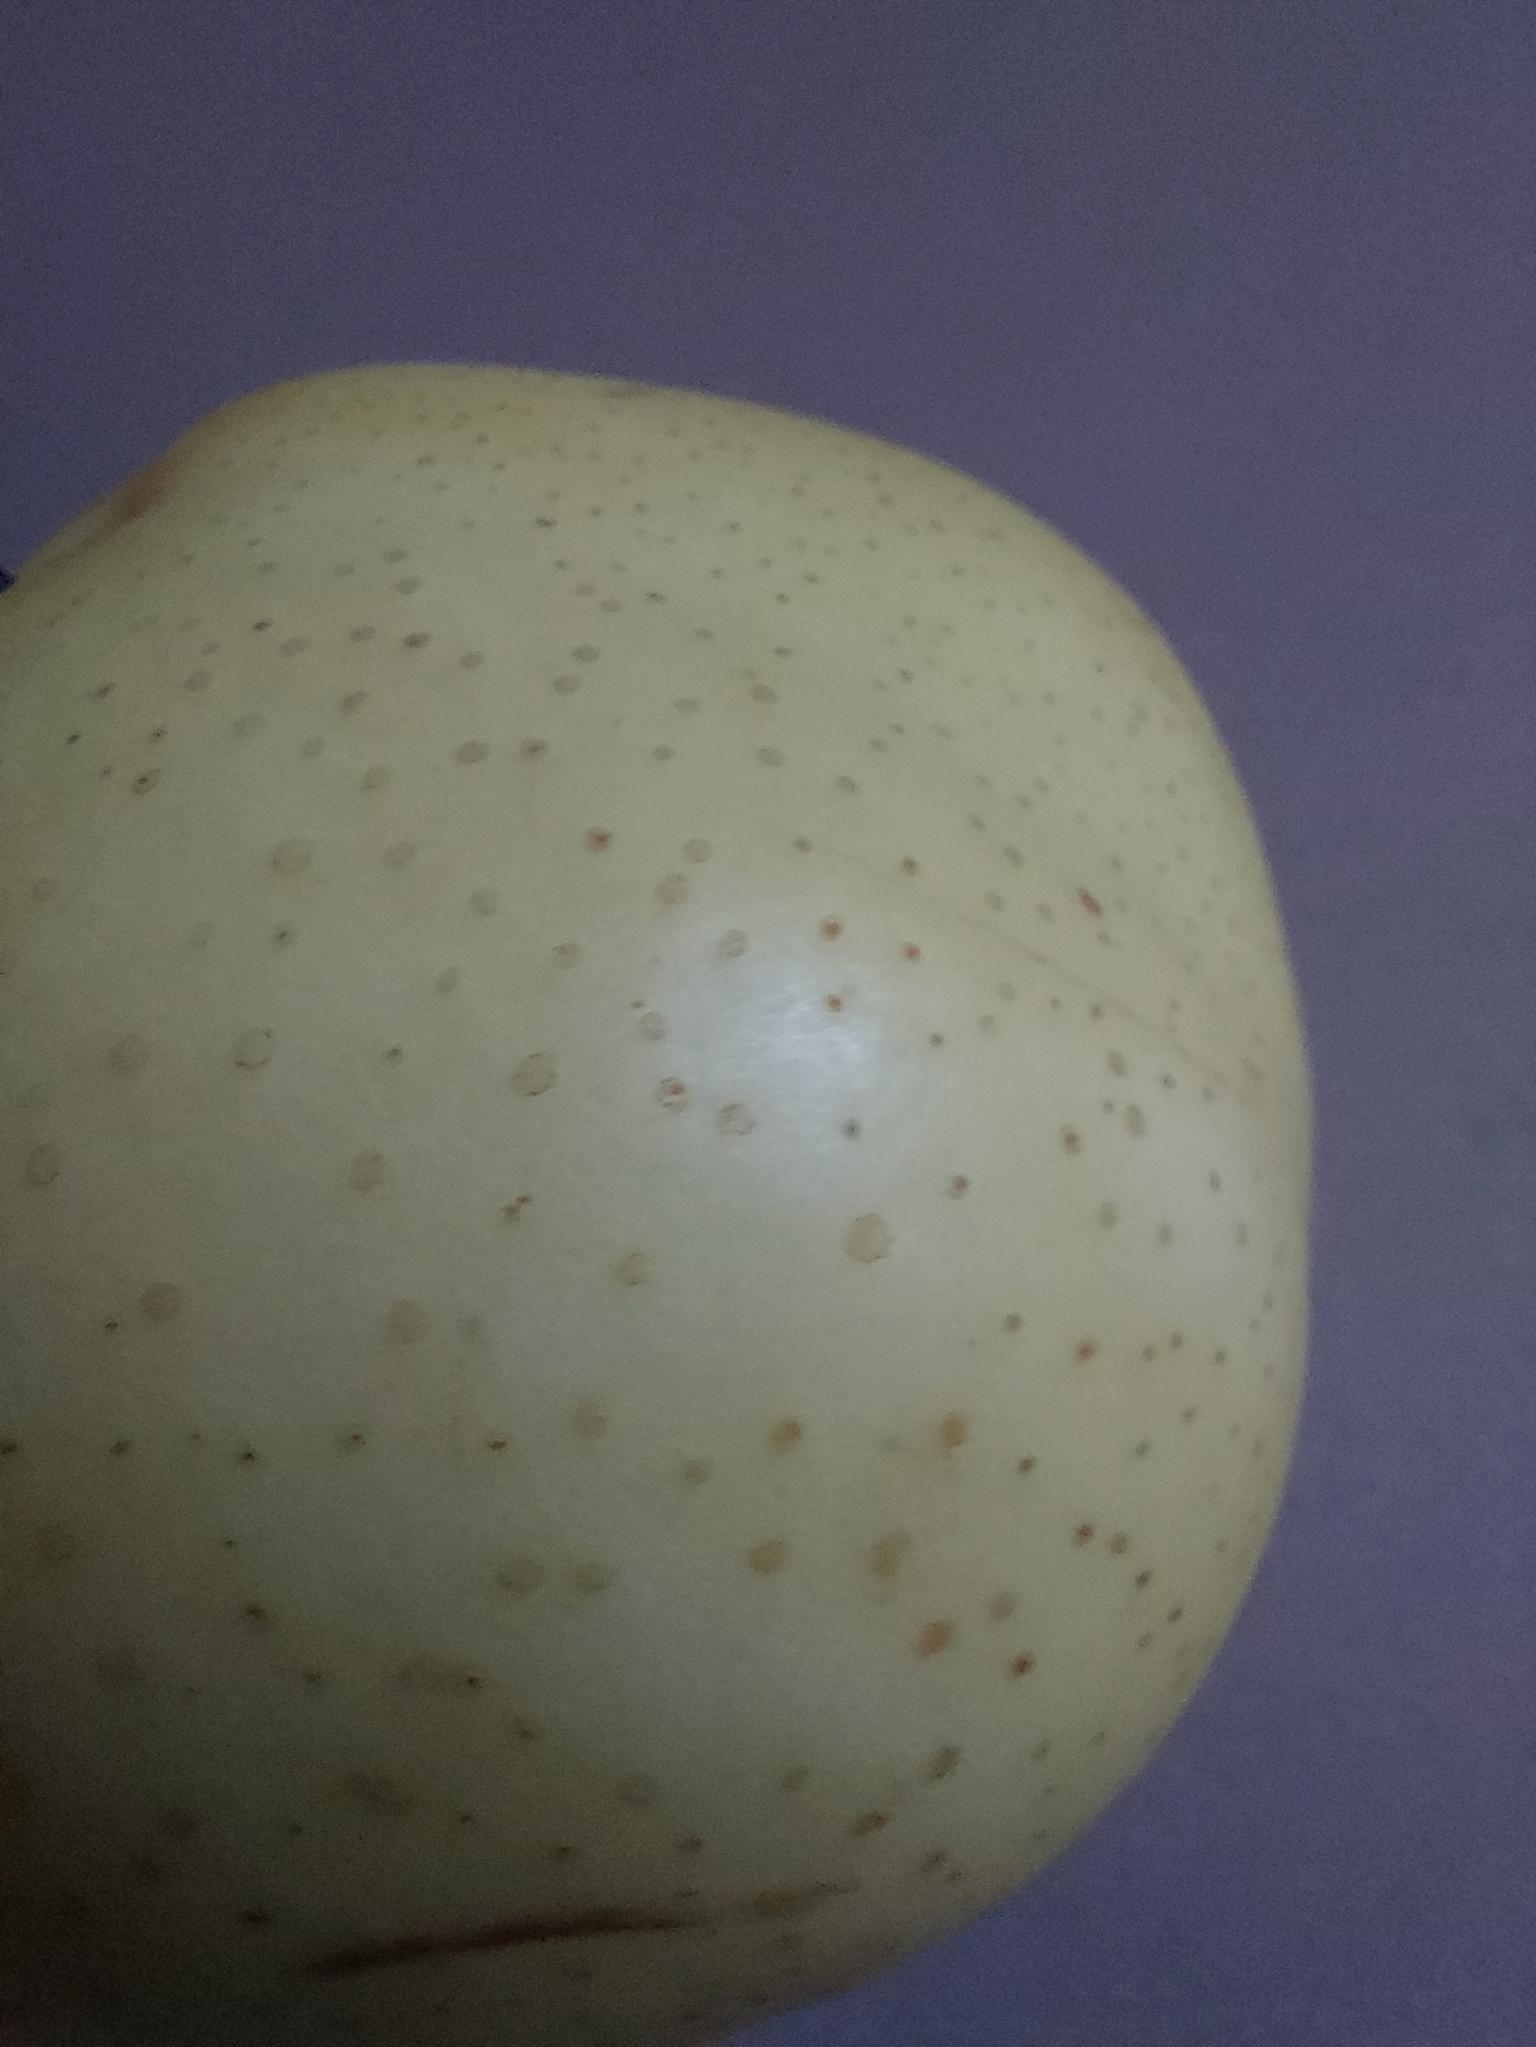Good Pear: (19, 353, 1323, 2047)
